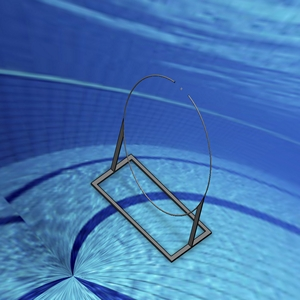circle: (90, 72, 215, 262)
